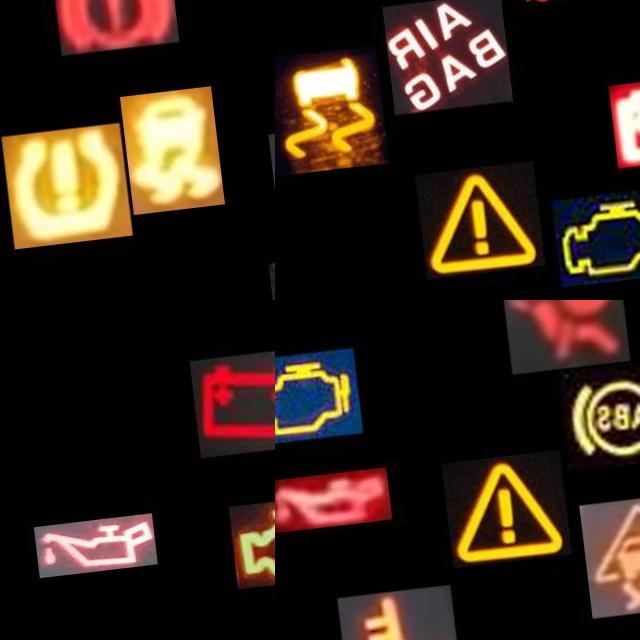Central Warning lamp: (408, 168, 536, 284), (435, 459, 563, 575)
Engine cooling system: (327, 591, 452, 640), (495, 0, 624, 32)
